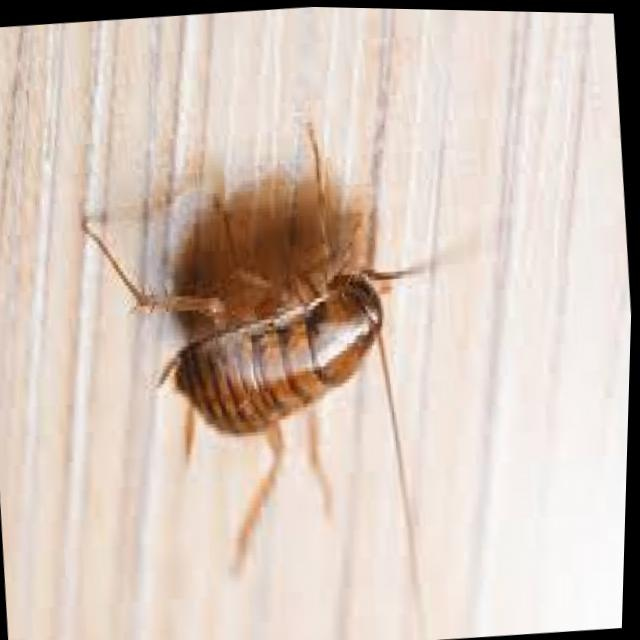Cockroach: (52, 93, 513, 640)
